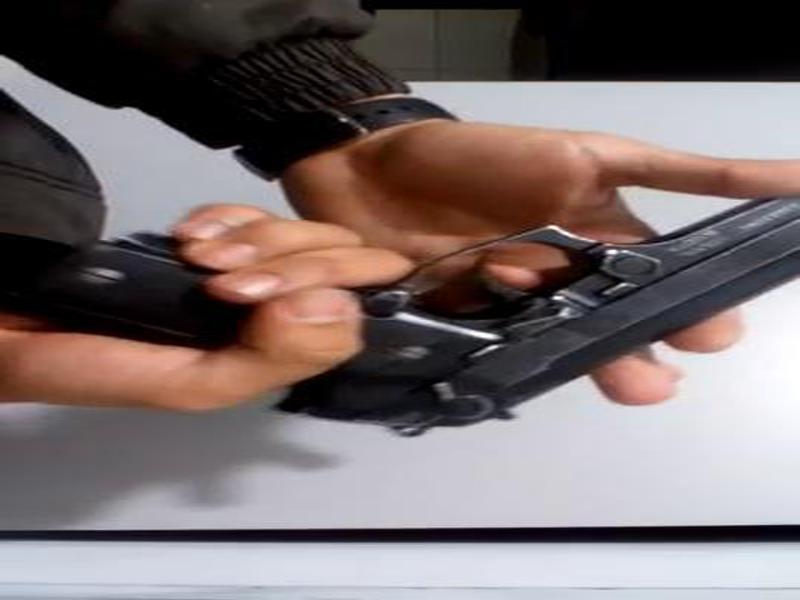Pistola: (70, 177, 800, 451)
